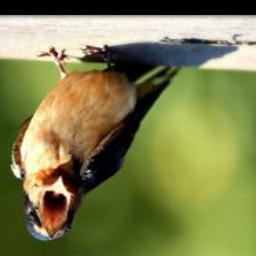Swallow: (10, 45, 183, 243)
